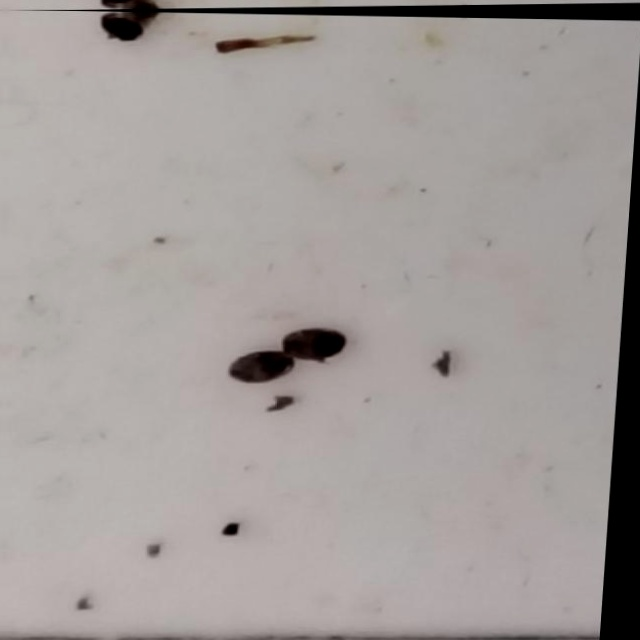varroa: (232, 346, 305, 383), (285, 326, 356, 361), (92, 13, 149, 45)
